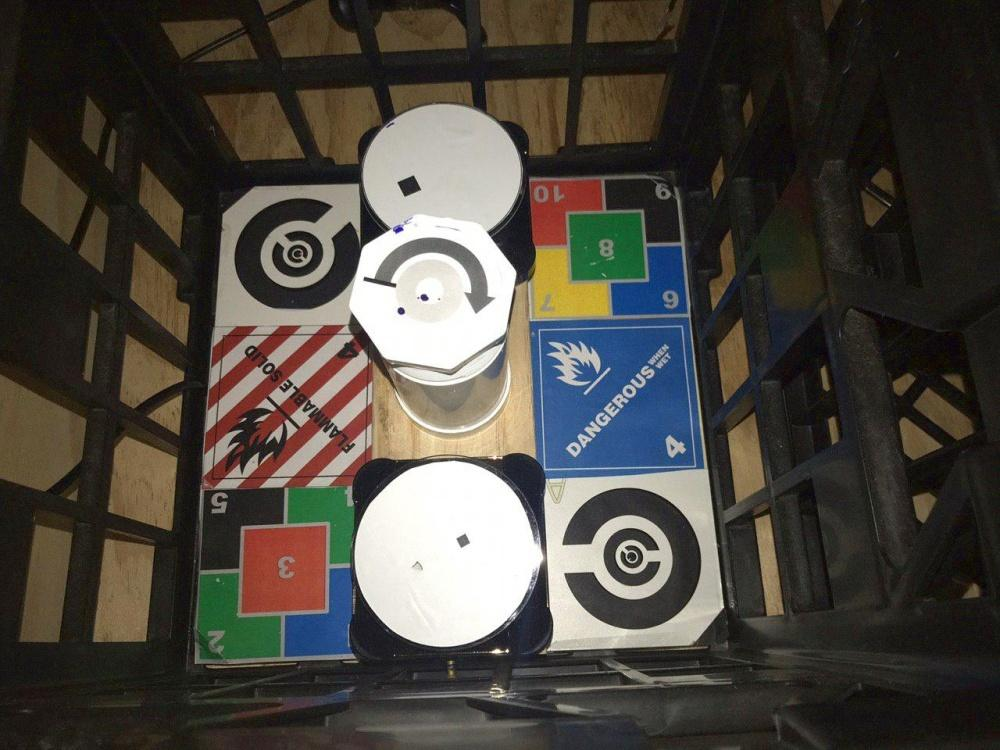dangerous-when-wet: (530, 314, 706, 477)
flammable-solid: (204, 322, 374, 487)
